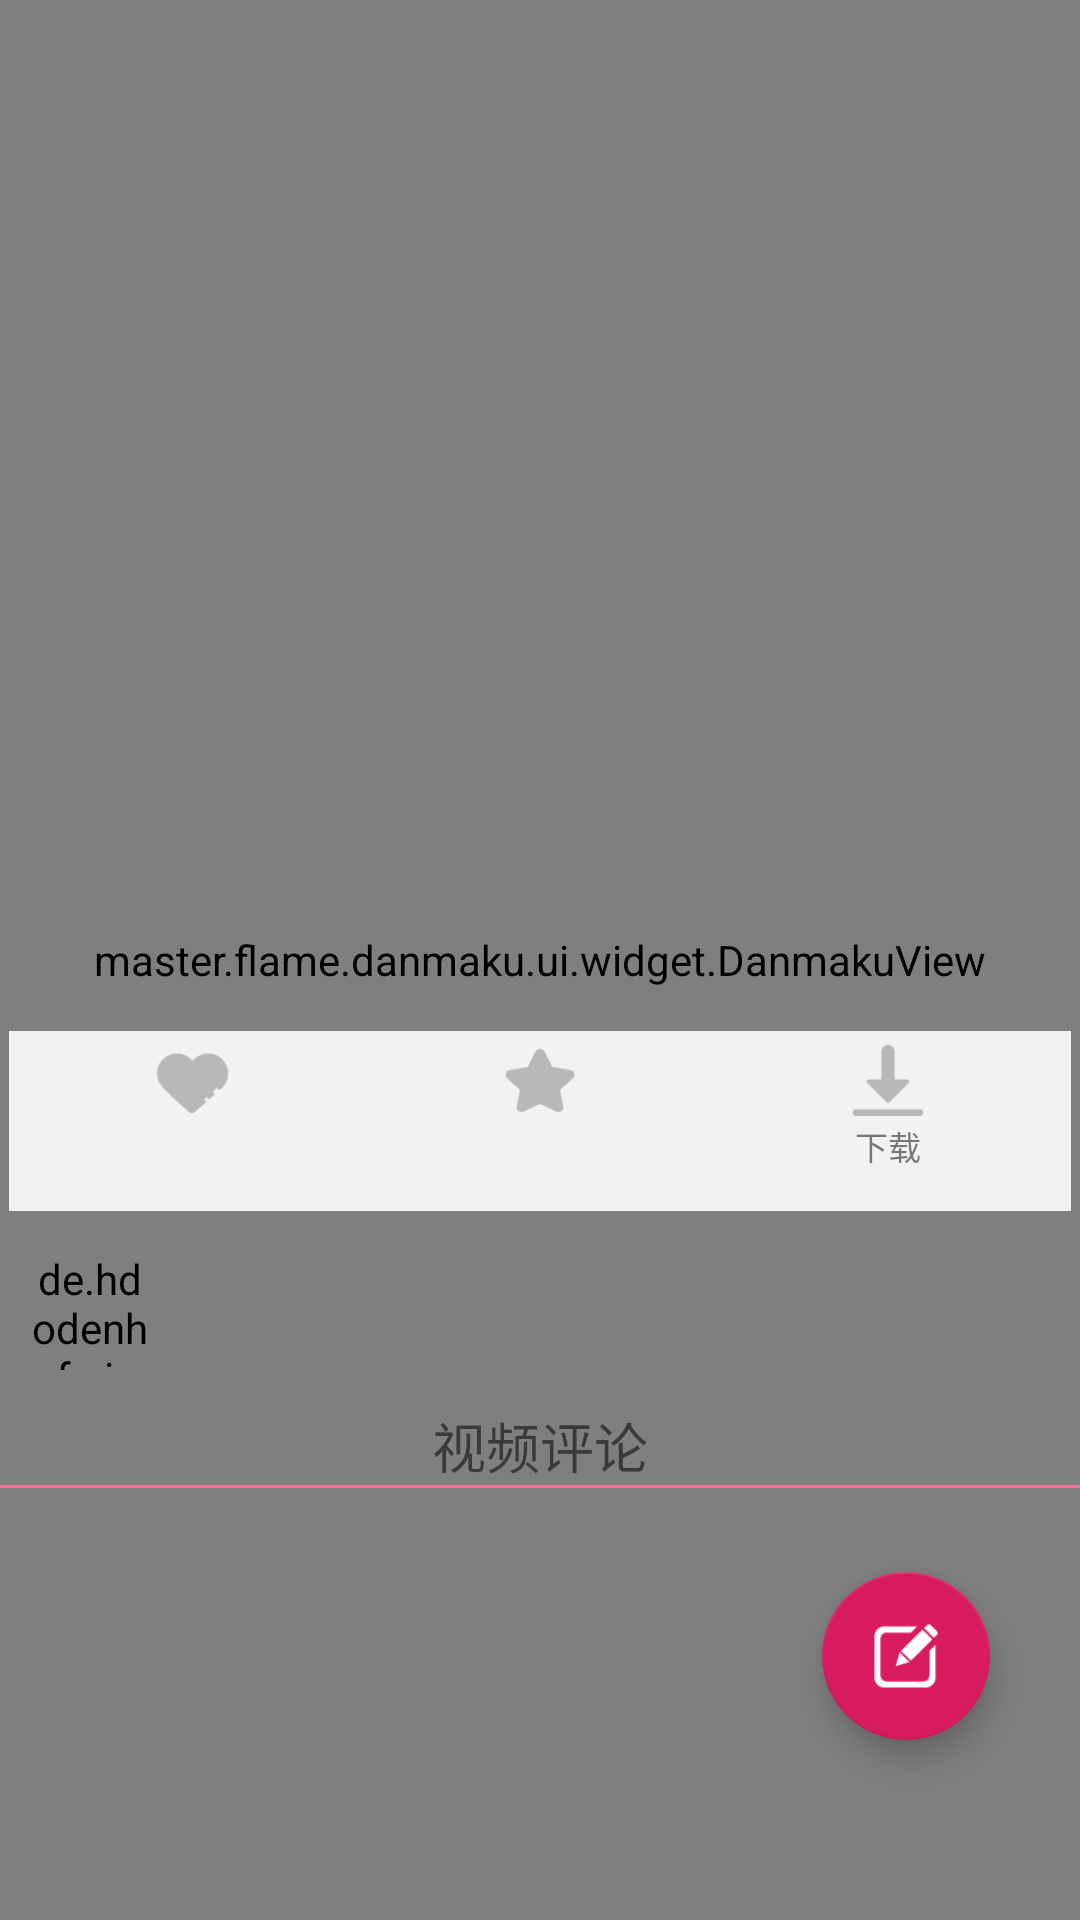

Named icons in this screenshot (1080w x 1920h) and their bounding boxes, bbox(x1, y1, x2, y2):
collect no: bbox(506, 1049, 574, 1112)
comment fab: bbox(822, 1572, 990, 1740)
like no: bbox(157, 1053, 228, 1113)
